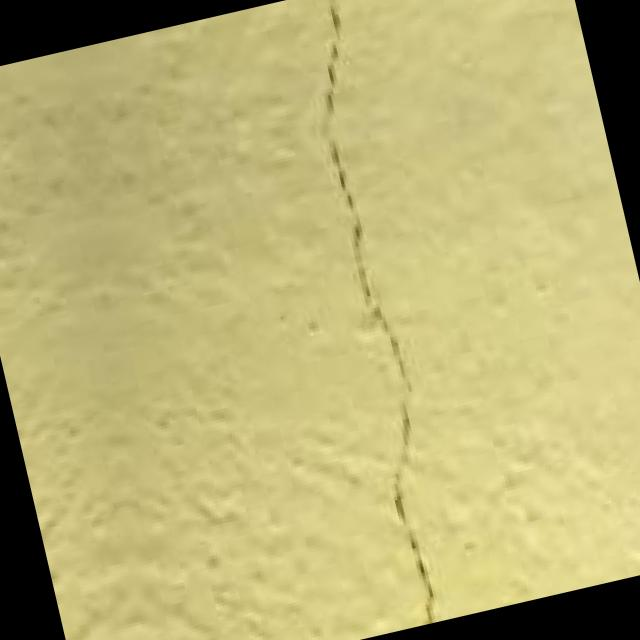crack: (182, 0, 534, 640)
